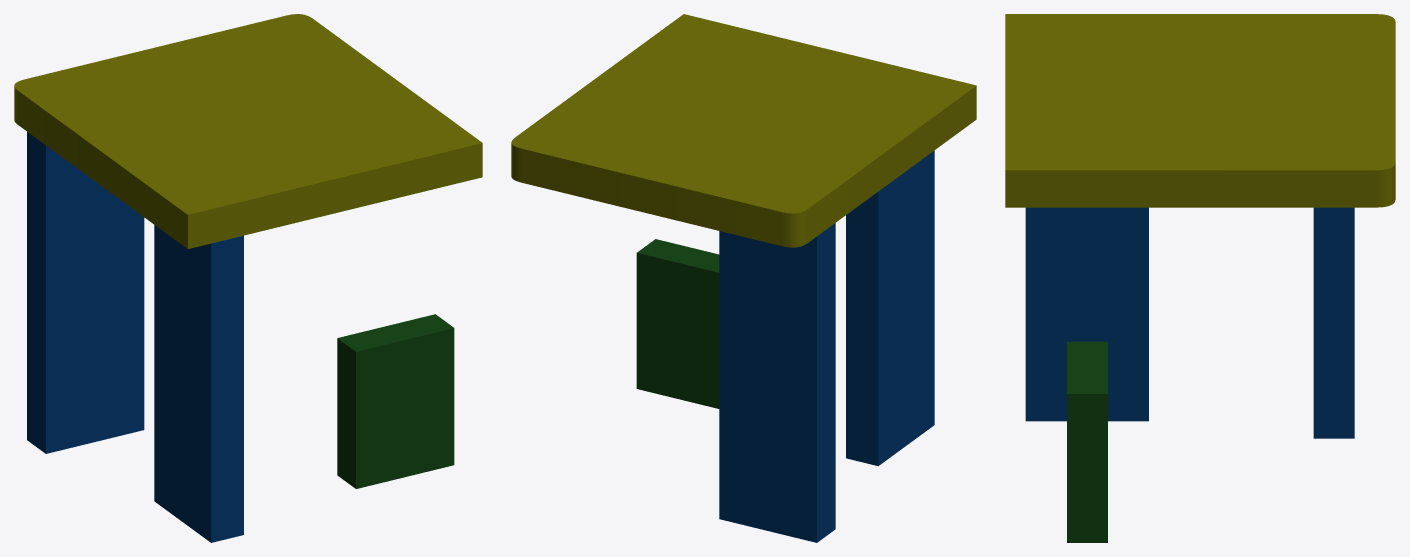
The model's file is T3DirB.fbx.
3 renders of one model, left to right at view 1: azimuth 30°, elevation 25°; view 2: azimuth 150°, elevation 25°; view 3: azimuth 270°, elevation 25°, orthographic. The views are drawn at different scales.
Visible parts, largest first — view 1: 4, 3, 1, 2; view 2: 4, 3, 1, 2; view 3: 3, 1, 4, 2.
Part boxes in pixels (box(x1,y1,x2,y2)): 4: box(14, 47, 244, 453); 3: box(98, 113, 335, 542); 1: box(246, 77, 482, 488); 2: box(156, 14, 392, 112); 4: box(651, 115, 887, 542); 3: box(741, 49, 976, 466); 1: box(595, 14, 829, 408); 2: box(511, 79, 740, 214); 3: box(1005, 14, 1200, 421); 1: box(1005, 92, 1200, 542); 4: box(1200, 14, 1395, 438); 2: box(1200, 92, 1395, 207).
Bounding box in the file's own units: 180 × 200 × 190.
